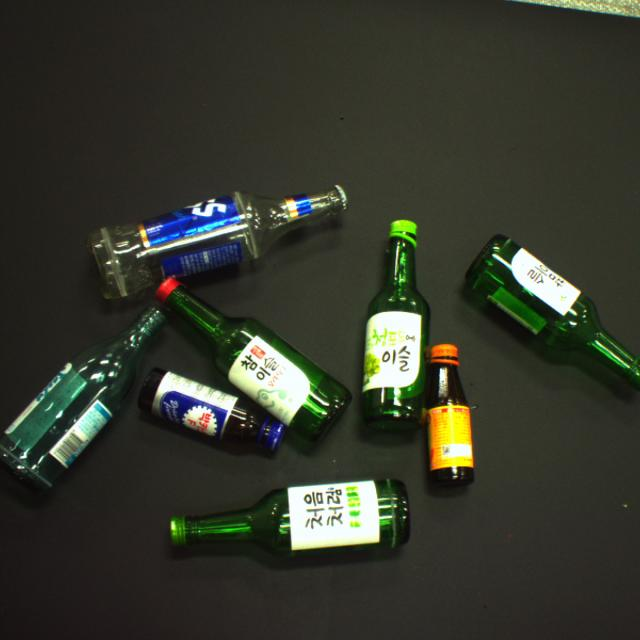beer-bottle: (87, 185, 347, 300)
soju-bottle: (156, 278, 352, 442), (0, 305, 162, 488), (466, 235, 639, 390), (171, 479, 410, 555), (362, 220, 429, 430)
